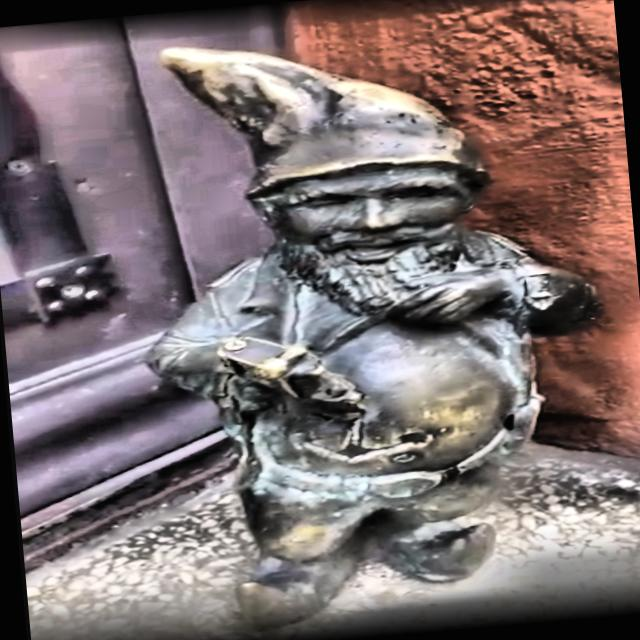TatuazystaKonstanty: (148, 47, 596, 626)
